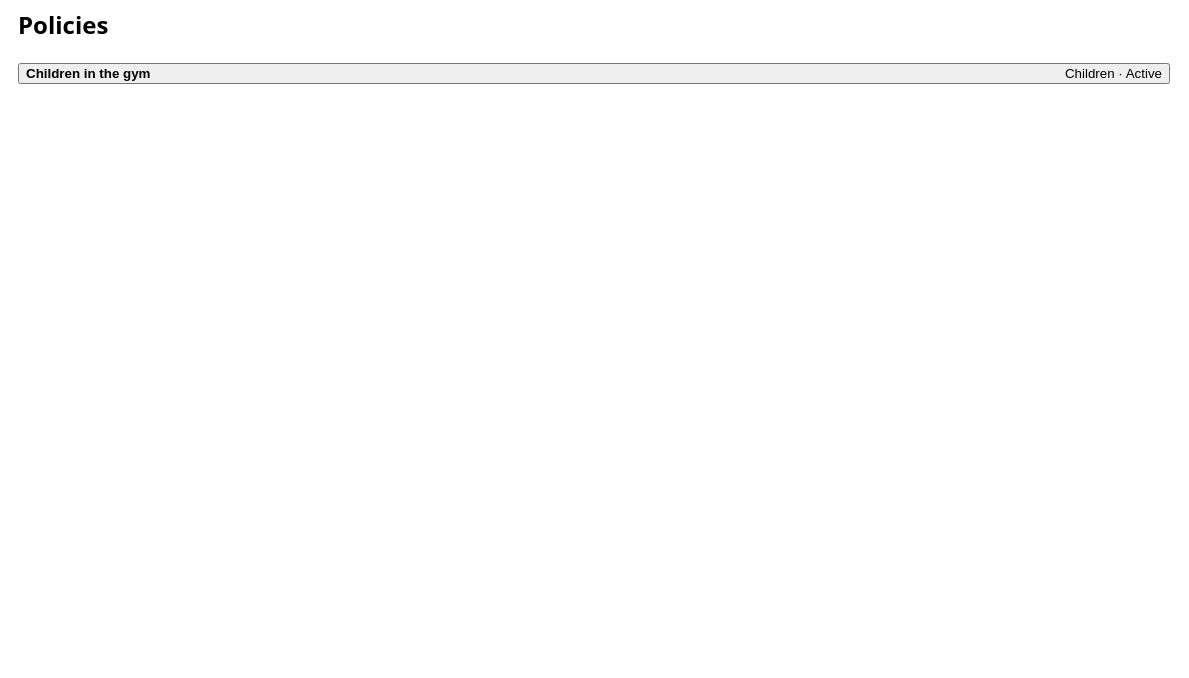
Test: PoliciesSection › saves the whole policy with the version it was edited on, keeping what the form does not show
Click the button "Children in the gym Children · Active" at (88, 73), box [18,63,1170,84]
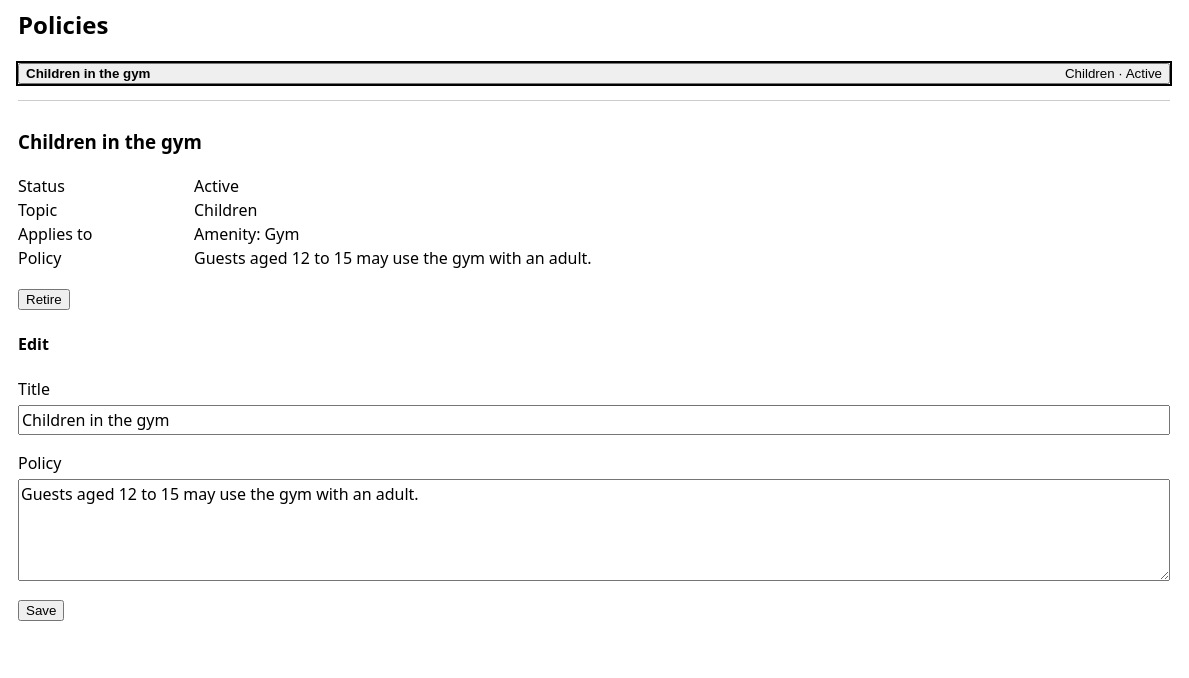
Check: the text "Amenity: Gym" is shown, box [194,223,299,245]
Replace the text in the text box labelled "Policy" with "Guests aged 12 to 15 may use the gym only with an adult." at (594, 530), box [18,479,1170,581]
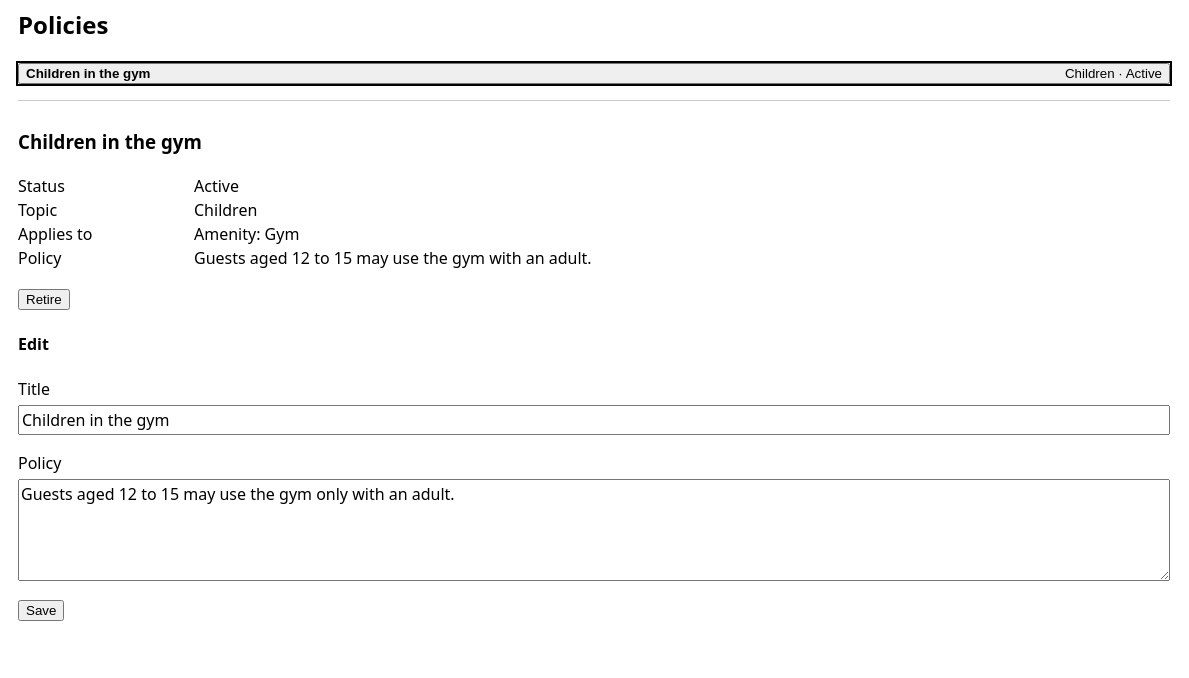
Click the button "Save" at (41, 610), box [18,600,64,621]
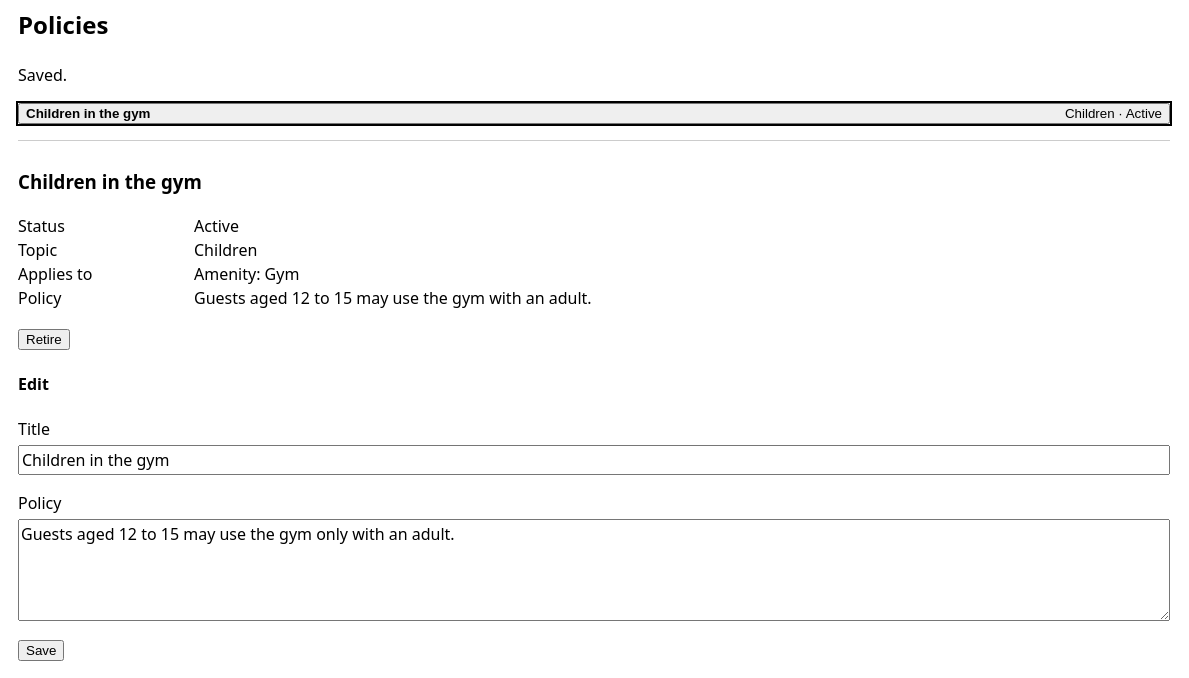
Check: the text "Saved." is shown, box [18,64,67,86]
